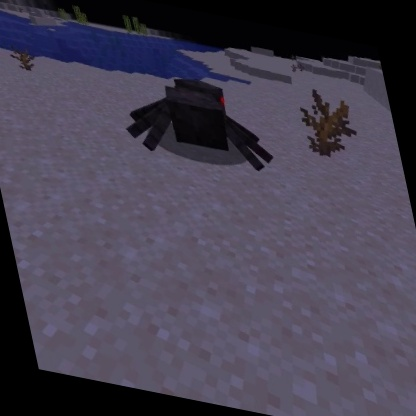spider: (108, 59, 281, 179)
